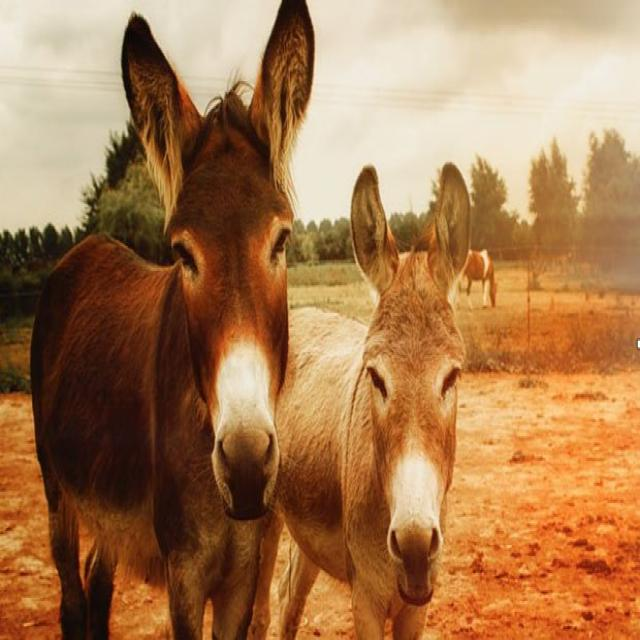Donkey: (23, 0, 322, 640), (266, 158, 482, 640)
